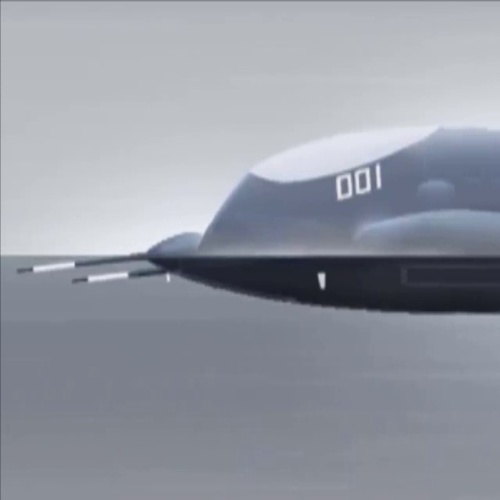uav: (26, 122, 495, 319)
